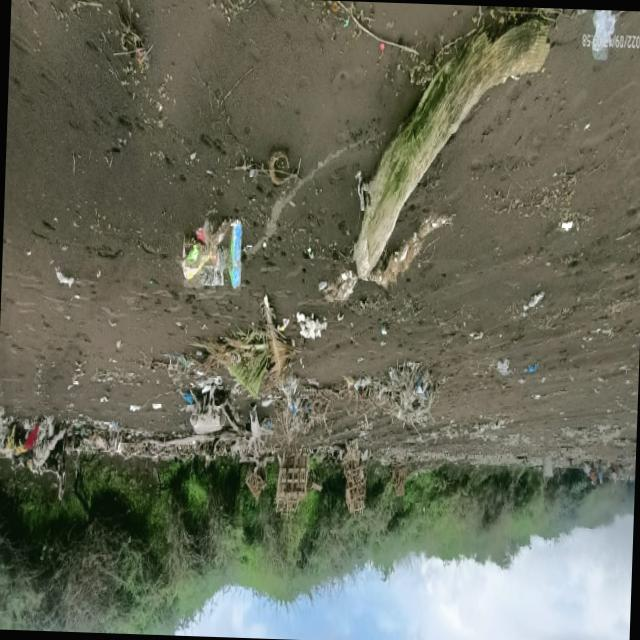nhua: (592, 9, 616, 60)
rac_huu_co: (354, 18, 550, 280), (73, 406, 274, 466), (204, 296, 293, 398), (378, 365, 438, 426), (277, 376, 329, 445), (275, 453, 309, 516), (343, 441, 365, 516)
